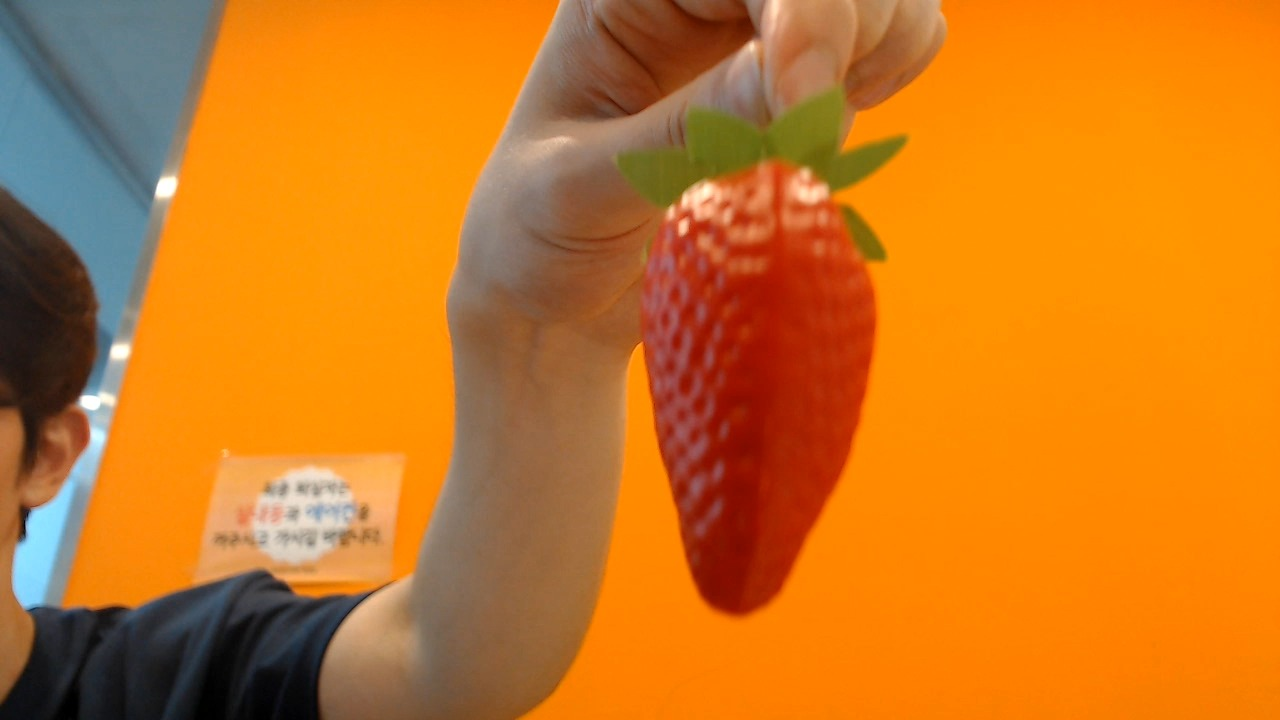strawberry: (638, 123, 876, 613)
